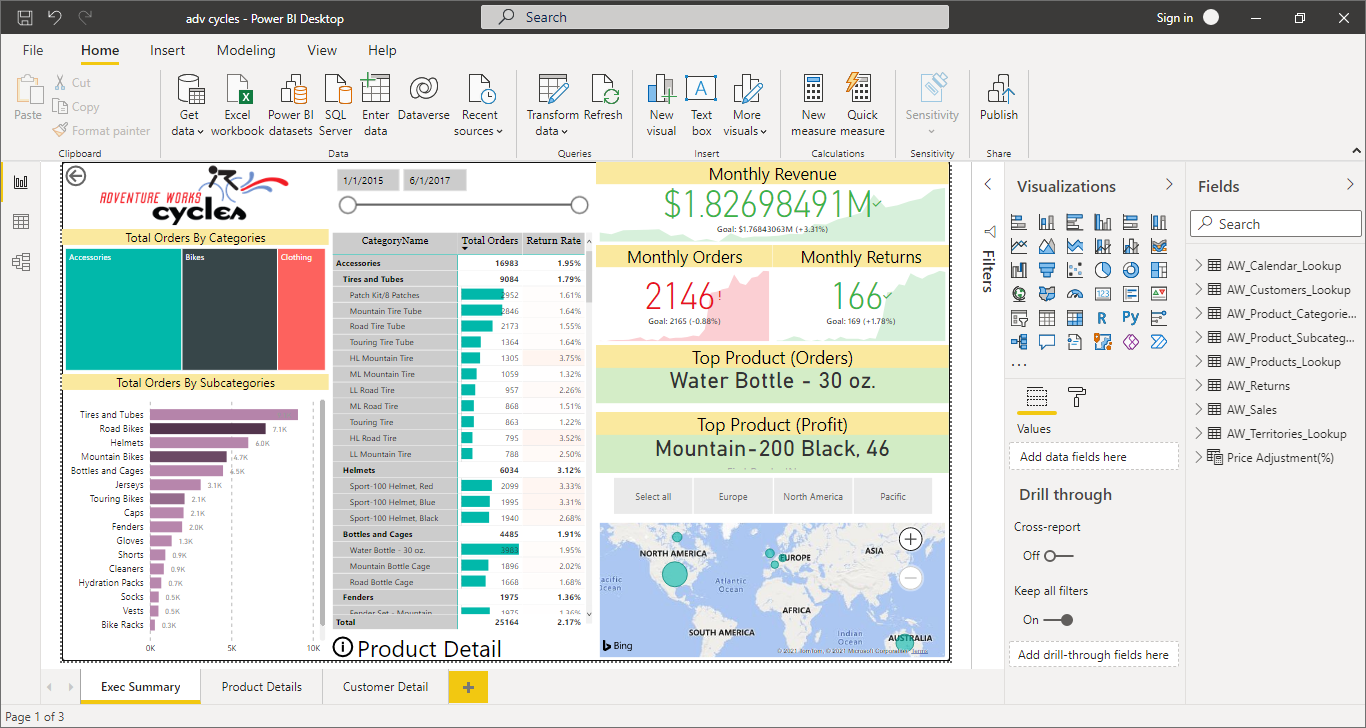

Layout of this report page (visuals, bound fields, positions):
{"tool":"powerbi","page":{"name":"Exec Summary","canvas":[1280,720],"ordinal":0},"visuals":[{"type":"image","box":[0,0,289.3,97.3],"z":0},{"type":"barChart","title":"Total Orders By Subcategories","fields":{"Y":["AW_Sales.Total Orders"],"Category":["AW_Product_Subcategories_Lookup.SubcategoryName"]},"box":[0,305.9,385.3,414.1],"z":1000},{"type":"treemap","title":"Total Orders By Categories","fields":{"Group":["AW_Product_Categories_Lookup.CategoryName"],"Values":["AW_Sales.Total Orders"]},"box":[0,96.7,385.3,209.2],"z":2000},{"type":"slicer","fields":{"Values":["AW_Calendar_Lookup.Start of Month"]},"box":[311.7,0,458.8,98.1],"z":3000},{"type":"pivotTable","fields":{"Values":["AW_Sales.Total Orders","AW_Returns.Return Rate"],"Rows":["AW_Product_Categories_Lookup.CategoryName","AW_Product_Subcategories_Lookup.SubcategoryName","AW_Products_Lookup.ProductName"]},"box":[385.3,96.7,385.3,582.9],"z":4000},{"type":"kpi","title":"Monthly Revenue","fields":{"Indicator":["AW_Sales.Total Revenue"],"TrendLine":["AW_Calendar_Lookup.Start of Month"],"Goal":["AW_Sales.Prev Month Revenue"]},"box":[770.5,0,509.3,119.8],"z":5000},{"type":"kpi","title":"Monthly Orders","fields":{"TrendLine":["AW_Calendar_Lookup.Start of Month"],"Goal":["AW_Sales.Prev Month Orders"],"Indicator":["AW_Sales.Total Orders"]},"box":[770.5,119.8,255.4,144.3],"z":6000},{"type":"kpi","title":"Monthly Returns","fields":{"TrendLine":["AW_Calendar_Lookup.Start of Month"],"Goal":["AW_Returns.Prev Month Returns"],"Indicator":["AW_Returns.Total Returns"]},"box":[1025.9,119.8,253.9,144.3],"z":7000},{"type":"card","title":"Top Product (Orders)","fields":{"Values":["Min(AW_Products_Lookup.ProductName)"]},"box":[770.5,264,509.3,83.7],"z":8000},{"type":"card","title":"Top Product (Profit)","fields":{"Values":["Min(AW_Products_Lookup.ProductName)"]},"box":[770.5,360.7,509.3,88],"z":9000},{"type":"map","fields":{"Size":["AW_Sales.Total Orders"],"Category":["AW_Territories_Lookup.Country"]},"box":[770.5,515.1,509.3,204.9],"z":10000},{"type":"slicer","fields":{"Values":["AW_Territories_Lookup.Continent"]},"box":[770.5,448.7,509.3,66.4],"z":11000},{"type":"actionButton","box":[385.3,679.6,290,40.4],"z":12000},{"type":"actionButton","box":[0,0,100,40],"z":13000}]}

Visuals, with their boxes on the page's 1280x720 design canvas (x1, y1, x2, y2). These are canvas units, not pixel positions in the 1366x728 screenshot, which may show the page scaled, cropped or inside an application window:
image: (left=0, top=0, right=289, bottom=97)
"Total Orders By Subcategories" barChart: (left=0, top=306, right=385, bottom=720)
"Total Orders By Categories" treemap: (left=0, top=97, right=385, bottom=306)
slicer - AW_Calendar_Lookup.Start of Month: (left=312, top=0, right=770, bottom=98)
pivotTable - AW_Sales.Total Orders x AW_Returns.Return Rate: (left=385, top=97, right=771, bottom=680)
"Monthly Revenue" kpi: (left=770, top=0, right=1280, bottom=120)
"Monthly Orders" kpi: (left=770, top=120, right=1026, bottom=264)
"Monthly Returns" kpi: (left=1026, top=120, right=1280, bottom=264)
"Top Product (Orders)" card: (left=770, top=264, right=1280, bottom=348)
"Top Product (Profit)" card: (left=770, top=361, right=1280, bottom=449)
map - AW_Sales.Total Orders x AW_Territories_Lookup.Country: (left=770, top=515, right=1280, bottom=720)
slicer - AW_Territories_Lookup.Continent: (left=770, top=449, right=1280, bottom=515)
actionButton: (left=385, top=680, right=675, bottom=720)
actionButton: (left=0, top=0, right=100, bottom=40)
